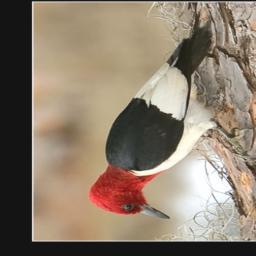Woodpecker: (85, 15, 256, 223)
